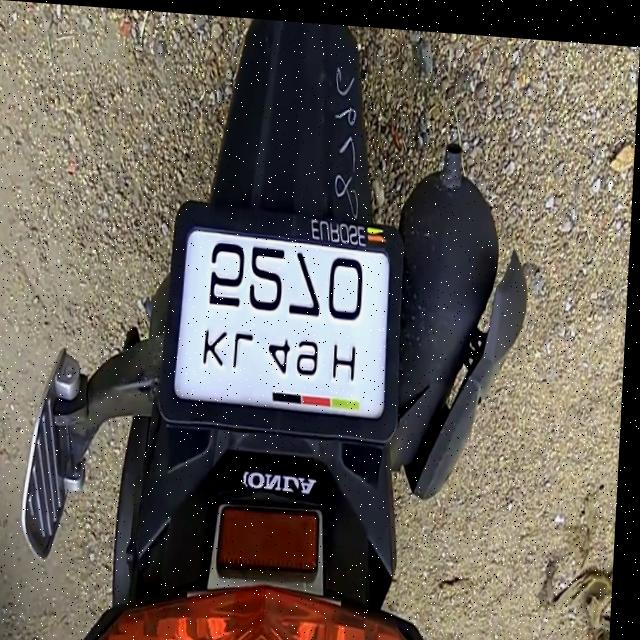plate: (177, 227, 396, 418)
